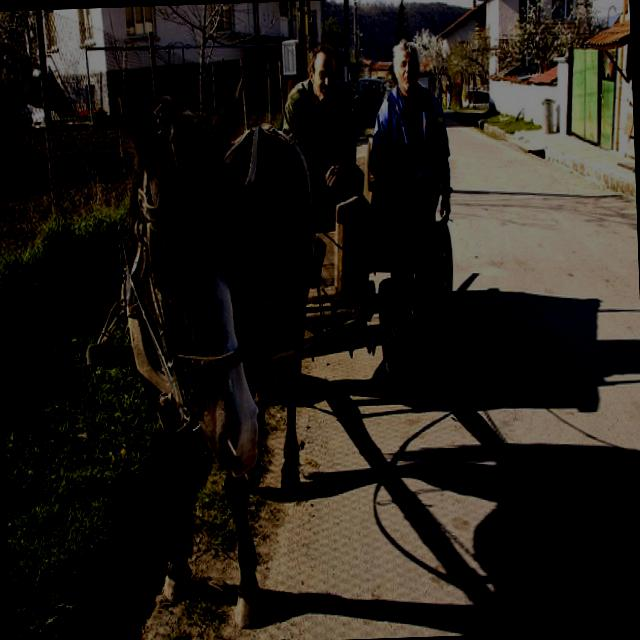Vehicle: (350, 76, 386, 122)
